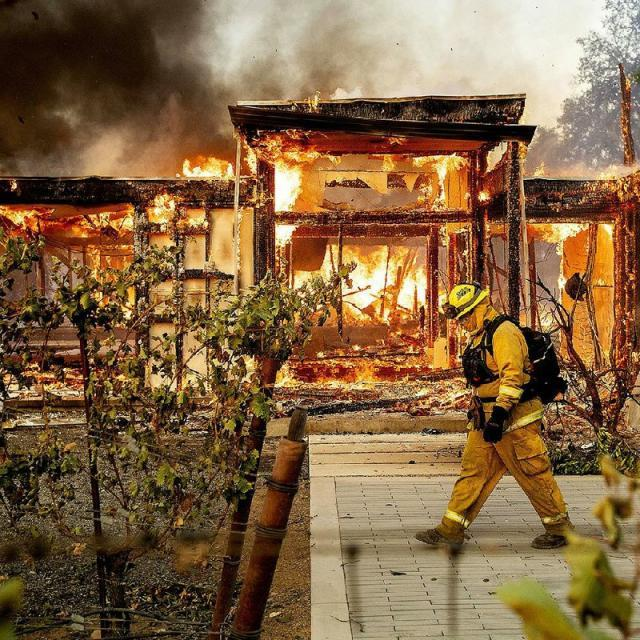Fire: (270, 150, 447, 340), (526, 218, 620, 310)
Smoke: (0, 0, 248, 152), (252, 0, 514, 100)
